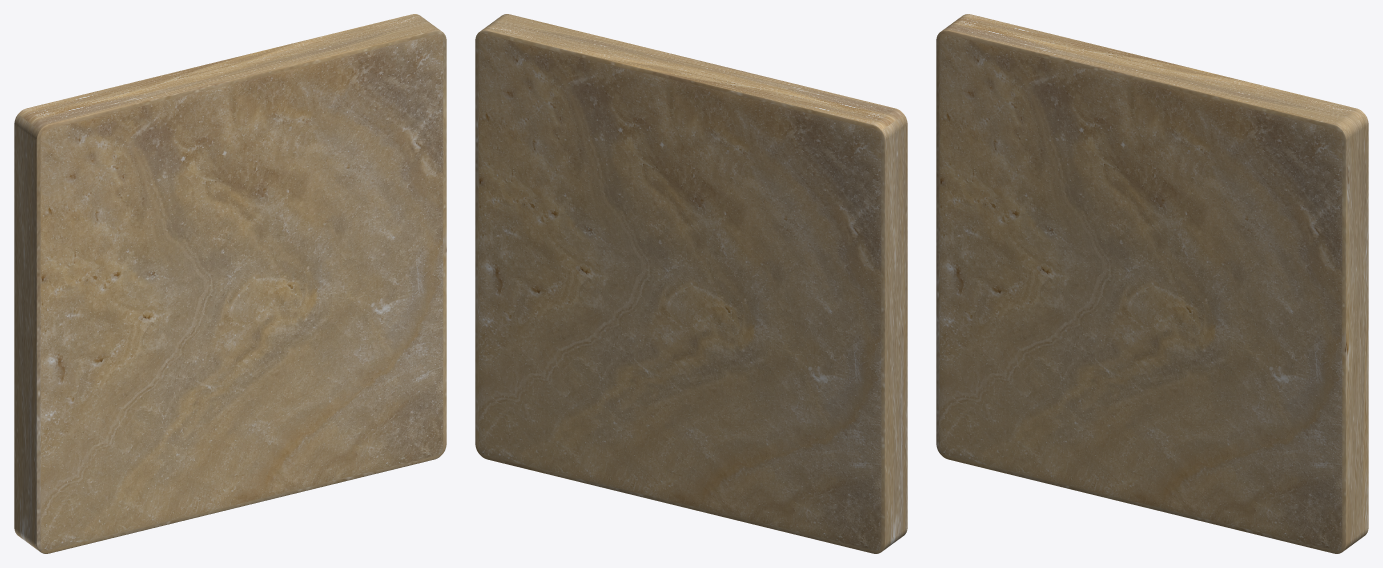
Rendered from limestone-sunset.glb.
3 views of the same model, side by side, from view 1: azimuth 30°, elevation 25°; view 2: azimuth 150°, elevation 25°; view 3: azimuth 330°, elevation 25° (orthographic).
Parts seen in each view (by area): view 1: Cube; view 2: Cube; view 3: Cube.
Part boxes in pixels (box(x1,y1,x2,y2)): Cube: box(14, 14, 446, 553); Cube: box(475, 14, 907, 553); Cube: box(936, 14, 1368, 553).
Size of the model in its own units: 0.1 by 0.1 by 0.01.
Materials: 2 (2 with a texture image).
